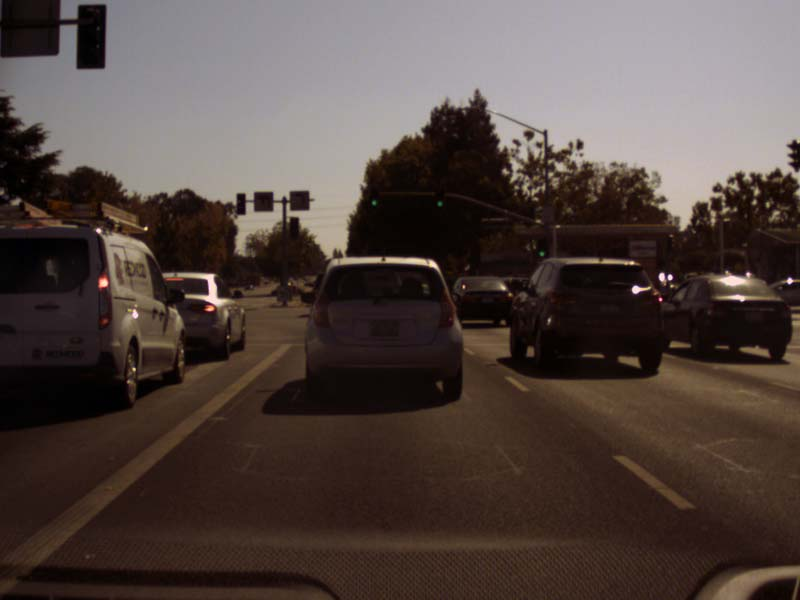Green: (434, 185, 444, 209), (537, 238, 548, 258), (370, 186, 379, 209)
